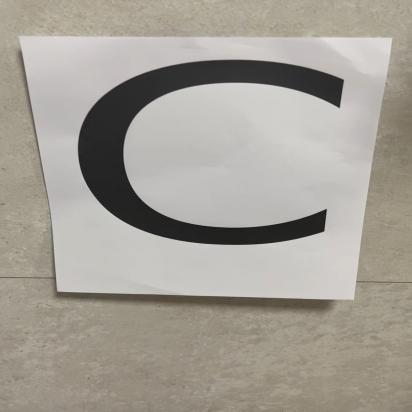seat: (39, 40, 366, 297)
